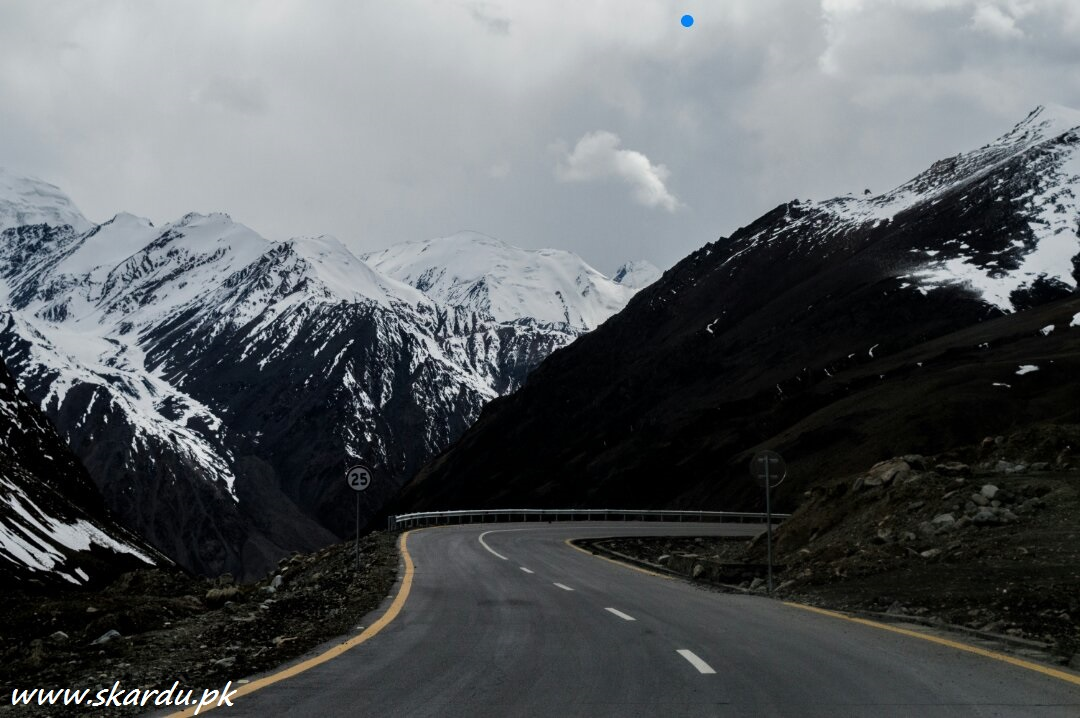rightTrun: (392, 473, 644, 675)
